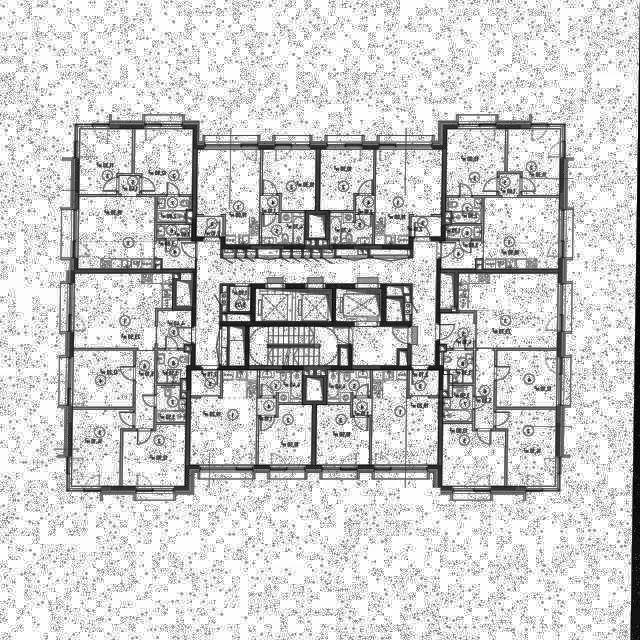room: (197, 241, 438, 366), (356, 149, 443, 245), (192, 370, 278, 465), (354, 370, 440, 465), (197, 149, 280, 245), (459, 273, 559, 348), (75, 273, 173, 348), (79, 196, 156, 269), (484, 197, 560, 269), (73, 409, 135, 486), (497, 409, 558, 486), (444, 423, 507, 487), (250, 326, 350, 366), (447, 129, 506, 195), (135, 129, 194, 195), (124, 425, 187, 486), (508, 129, 561, 196), (80, 128, 133, 195), (74, 350, 135, 407), (262, 148, 317, 211), (498, 350, 558, 407), (320, 149, 375, 210), (318, 405, 372, 465), (260, 405, 313, 465), (354, 326, 409, 366), (136, 350, 156, 429), (476, 350, 496, 429), (328, 370, 372, 403), (261, 370, 304, 403), (262, 212, 305, 245), (330, 213, 374, 245), (158, 310, 193, 349), (156, 240, 196, 269), (158, 350, 192, 384), (442, 313, 475, 348), (442, 241, 482, 269), (158, 385, 188, 422), (444, 385, 474, 422), (446, 197, 483, 223), (445, 350, 474, 383), (157, 196, 193, 222), (345, 294, 380, 316), (193, 370, 222, 396), (304, 294, 329, 321), (264, 294, 289, 321), (230, 286, 251, 311), (446, 225, 482, 239), (157, 224, 192, 238), (500, 174, 521, 195), (119, 176, 140, 195)
